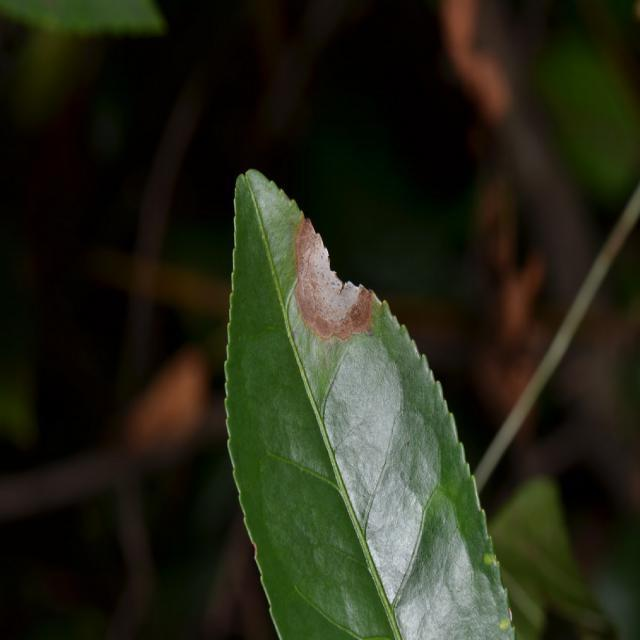Tea cloud leaf blight: (294, 201, 384, 347)
